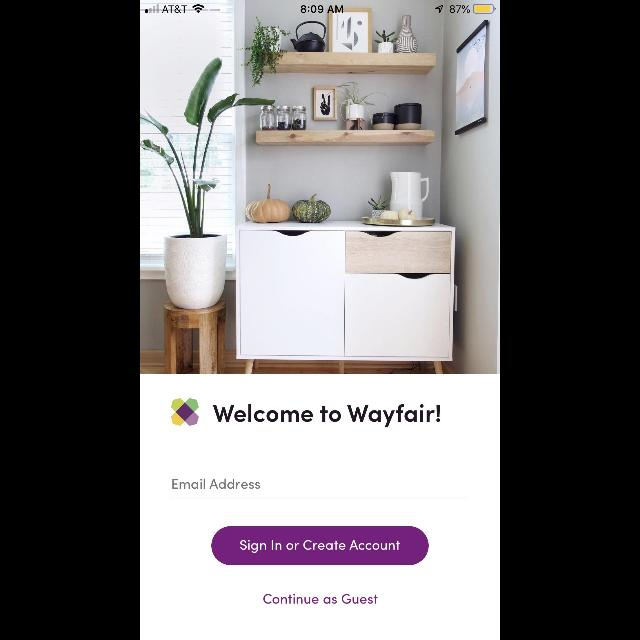image: (140, 1, 500, 373), (170, 398, 198, 426)
input: (171, 478, 469, 498)
text: (212, 403, 440, 427), (264, 594, 378, 604), (172, 478, 260, 489)
textbutton: (212, 526, 428, 566)
uppertaskbar: (140, 0, 500, 14)
